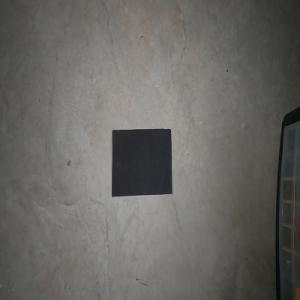PaintChip: (111, 128, 172, 196)
